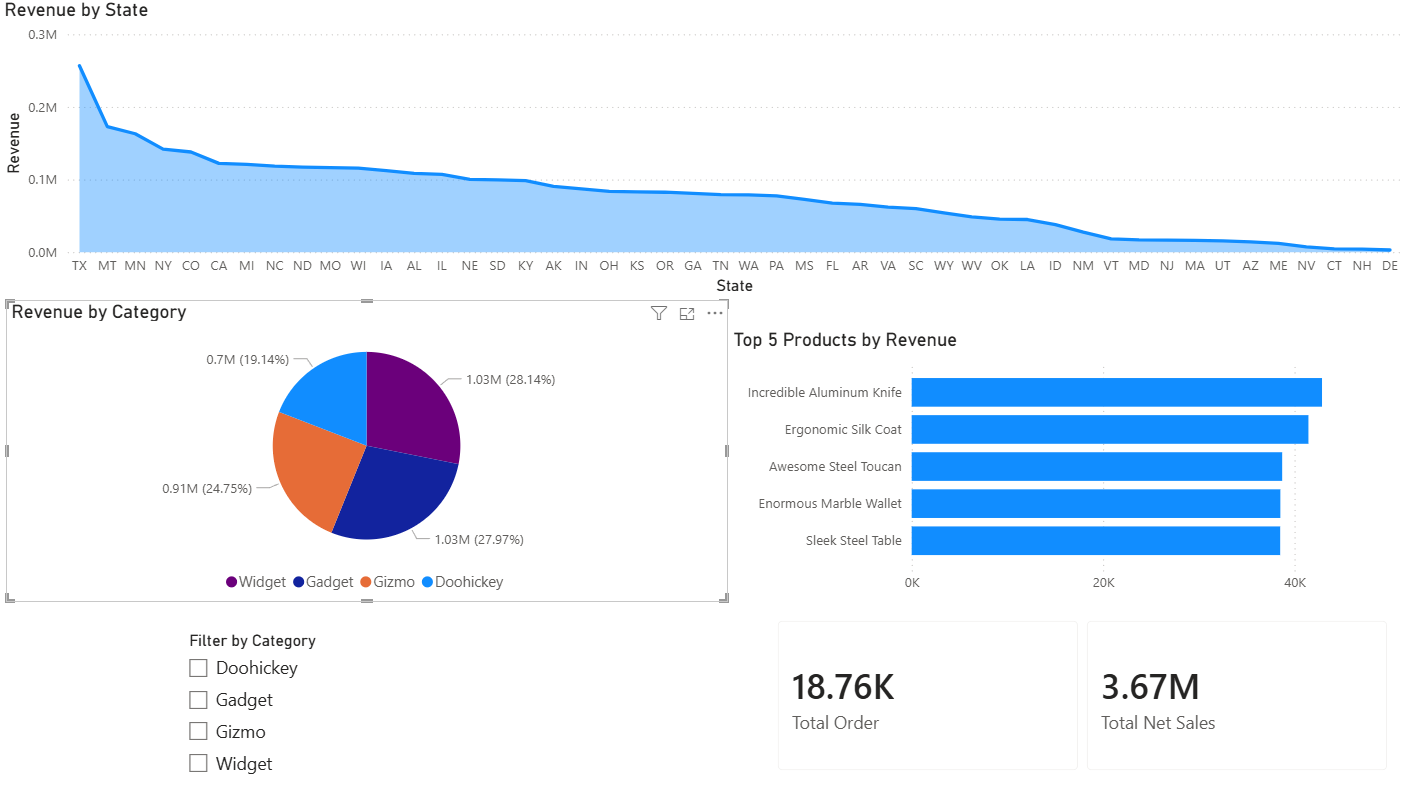

The page's visual inventory and layout, read from the dashboard file:
{"tool":"powerbi","page":{"name":"Page 1","canvas":[1280,720],"ordinal":0},"visuals":[{"type":"stackedAreaChart","fields":{"Y":["Sum(sales.Net Sales)"],"Category":["sales.Customer State"]},"box":[0,0,1279.7,274],"z":0},{"type":"pieChart","fields":{"Category":["sales.Category"],"Y":["Sum(sales.Net Sales)"]},"box":[6.8,274.3,655.6,275.3],"z":1000},{"type":"slicer","fields":{"Values":["sales.Category"]},"box":[160.3,571.3,348.4,148.7],"z":2000},{"type":"barChart","fields":{"Category":["sales.Product Name"],"Y":["Sum(sales.Net Sales)"]},"box":[662.7,300,617,249.9],"z":4000},{"type":"cardVisual","fields":{"Data":["CountNonNull(sales.Sales ID)","Sum(sales.Net Sales)"]},"box":[691.3,549,588.4,170.1],"z":4001}]}

Visuals, with their boxes in screenshot pixels (x1, y1, x2, y2), scaled from the page's 1280x720 canvas onto the 1405x787 screenshot:
stackedAreaChart - Sum(sales.Net Sales) x sales.Customer State: (0, 0, 1404, 299)
pieChart - sales.Category x Sum(sales.Net Sales): (7, 300, 727, 601)
slicer - sales.Category: (176, 624, 558, 786)
barChart - sales.Product Name x Sum(sales.Net Sales): (727, 328, 1404, 601)
cardVisual - CountNonNull(sales.Sales ID) x Sum(sales.Net Sales): (759, 600, 1404, 786)
